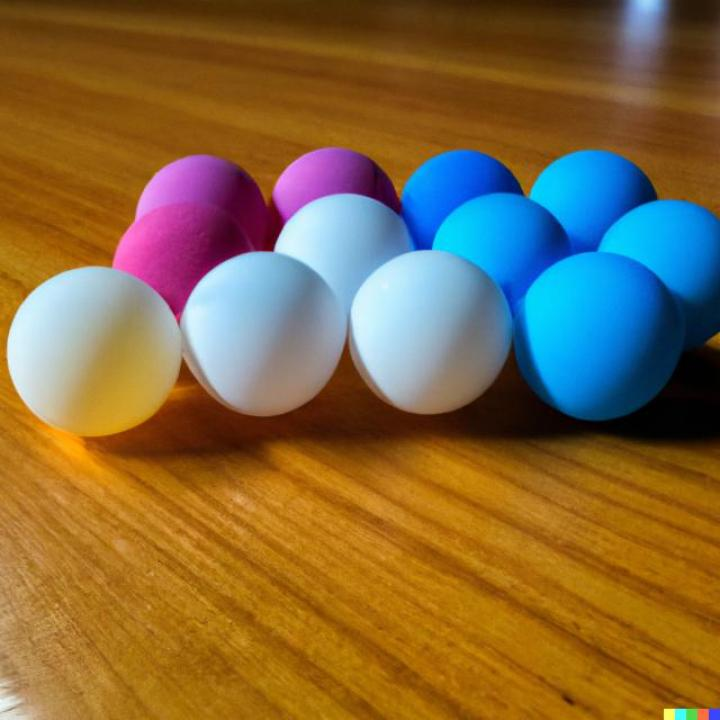white: (7, 268, 182, 438), (182, 250, 346, 419), (349, 253, 513, 415)
